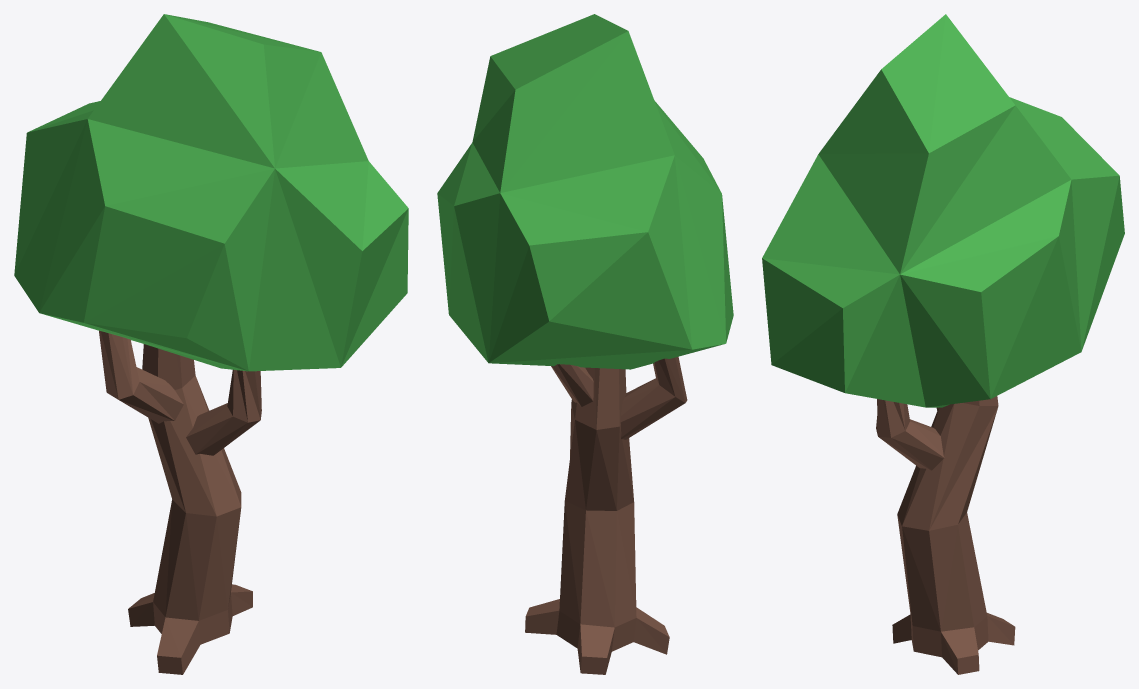
Rendered from Woods Tree D.glb.
3 renders of one model, left to right at view 1: azimuth 30°, elevation 25°; view 2: azimuth 150°, elevation 25°; view 3: azimuth 270°, elevation 25°, orthographic.
Parts seen in each view (by area): view 1: mesh1045676722_1, mesh1045676722; view 2: mesh1045676722_1, mesh1045676722; view 3: mesh1045676722_1, mesh1045676722.
Part boxes in pixels (left/top/right/bottom): mesh1045676722_1: left=14, top=14, right=408, bottom=371; mesh1045676722: left=99, top=330, right=261, bottom=674; mesh1045676722_1: left=437, top=14, right=733, bottom=369; mesh1045676722: left=525, top=356, right=687, bottom=674; mesh1045676722_1: left=762, top=14, right=1124, bottom=407; mesh1045676722: left=876, top=396, right=1015, bottom=674.
Size of the model in its own units: 2.19 by 4.4 by 2.28.
